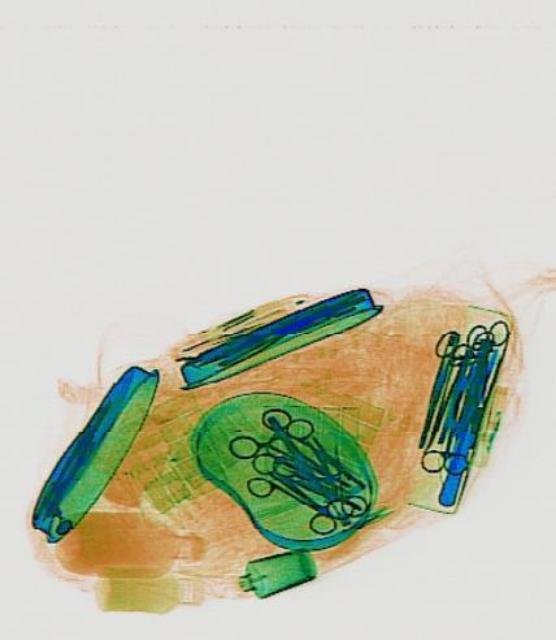Scissors: (236, 446, 336, 532), (266, 455, 354, 543), (446, 327, 504, 407), (456, 315, 508, 403), (416, 417, 473, 479)
